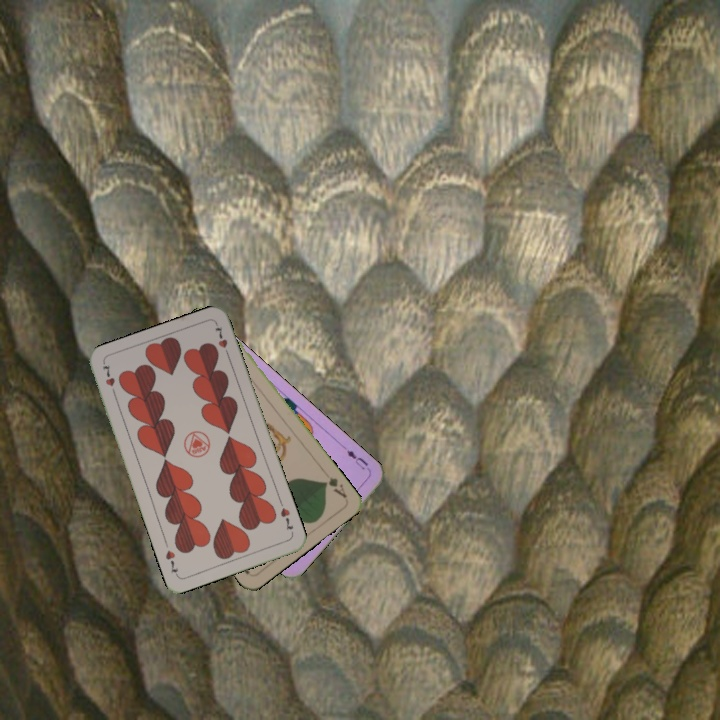EU: (339, 442, 371, 473)
GA: (319, 473, 350, 501)
H7: (98, 360, 119, 399), (276, 504, 296, 533)
